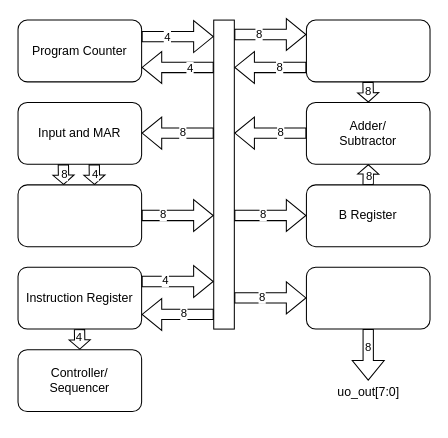
Image size: 448x438. Some labels were removed from this diagram. The shapes that lost their labels are listed below. From the top down, each one's centre as x and y in pixels, then its label:
At (367,50): "Accumulator / A Register".
At (79,215): "16 x 8 RAM".
At (367,297): "Output Register".
